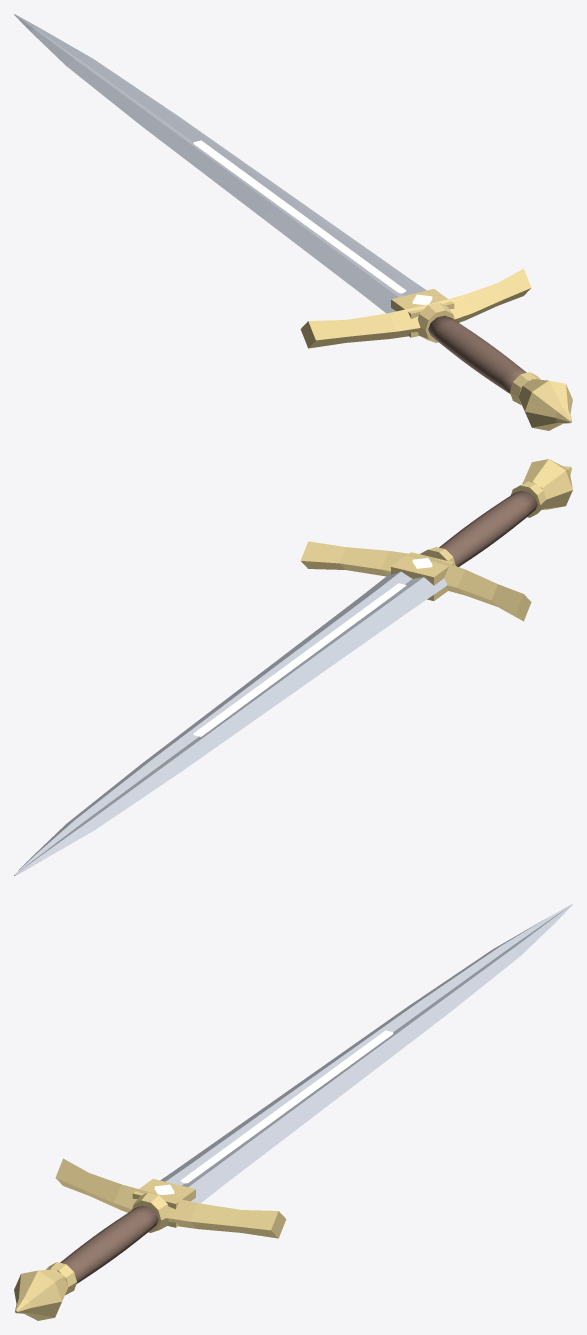
File: Knight_Longsword.fbx
3 views of the same model, one above another, from view 1: azimuth 30°, elevation 25°; view 2: azimuth 150°, elevation 25°; view 3: azimuth 330°, elevation 25° (orthographic).
Visible parts, largest first — view 1: KnightSword_Blade, KnightSword_GuardPommel, KnightSword_Grip, KnightSword_RuneDetail; view 2: KnightSword_Blade, KnightSword_GuardPommel, KnightSword_Grip, KnightSword_RuneDetail; view 3: KnightSword_Blade, KnightSword_GuardPommel, KnightSword_Grip, KnightSword_RuneDetail.
Part boxes in pixels (x1=…): KnightSword_Blade: x1=14, y1=14, x2=426, y2=313; KnightSword_GuardPommel: x1=300, y1=268, x2=572, y2=430; KnightSword_Grip: x1=428, y1=315, x2=526, y2=393; KnightSword_RuneDetail: x1=193, y1=140, x2=432, y2=304; KnightSword_Blade: x1=14, y1=571, x2=447, y2=875; KnightSword_GuardPommel: x1=300, y1=459, x2=572, y2=621; KnightSword_Grip: x1=439, y1=490, x2=537, y2=566; KnightSword_RuneDetail: x1=193, y1=558, x2=432, y2=736; KnightSword_Blade: x1=160, y1=904, x2=572, y2=1203; KnightSword_GuardPommel: x1=14, y1=1158, x2=286, y2=1320; KnightSword_Grip: x1=60, y1=1205, x2=158, y2=1283; KnightSword_RuneDetail: x1=154, y1=1030, x2=393, y2=1194.
Size of the model in its own units: 0.34 by 0.076 by 1.52.
